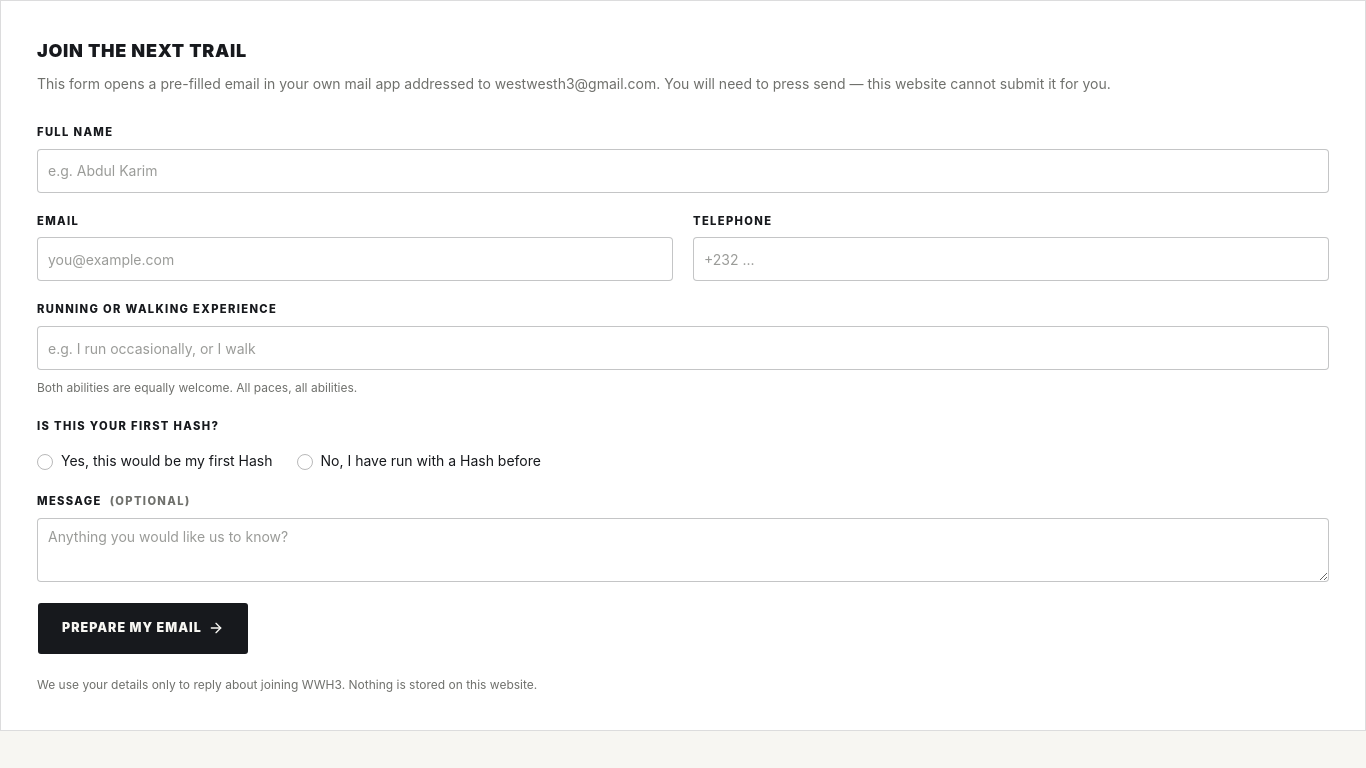
Test: join form validation › does not attempt to send an empty form
Click the button "Prepare my email" at [143, 628], box [37,602,249,655]
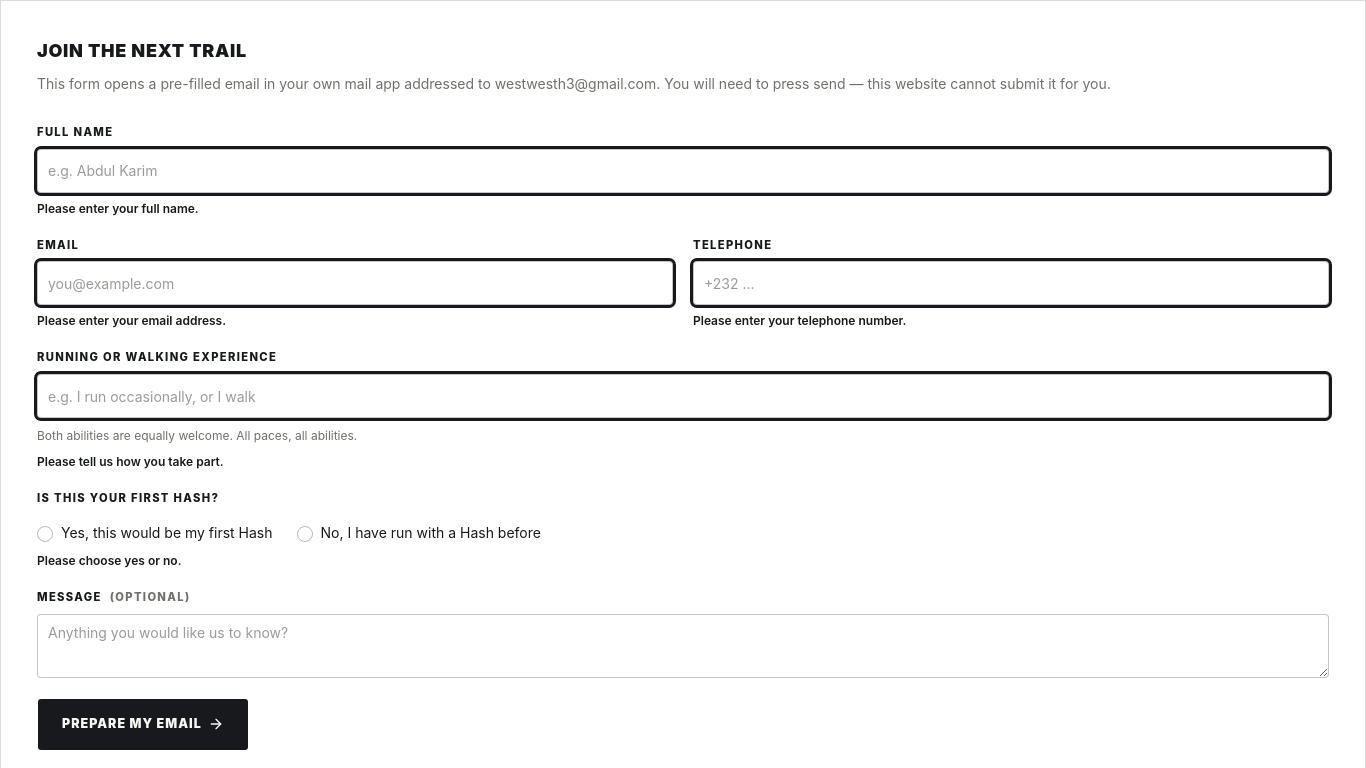
Expected: the text "Please enter your full name." is shown, [37,200,199,216]
